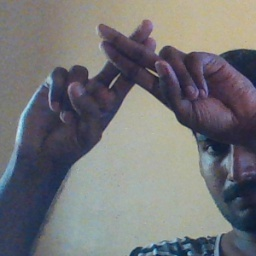F: (62, 14, 213, 126)
